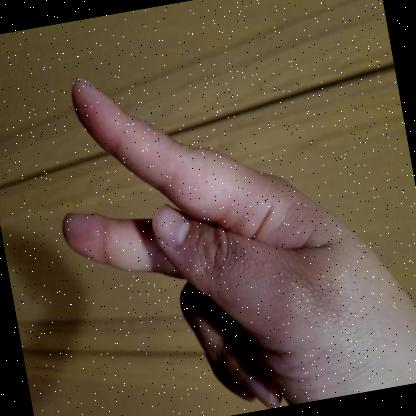P: (62, 77, 416, 408)
